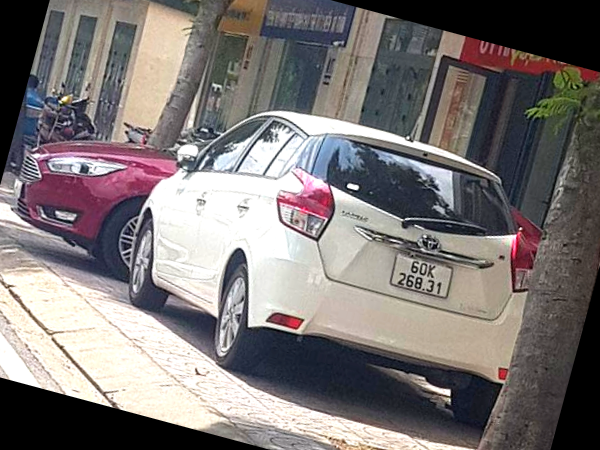lisence: (392, 252, 452, 299)
